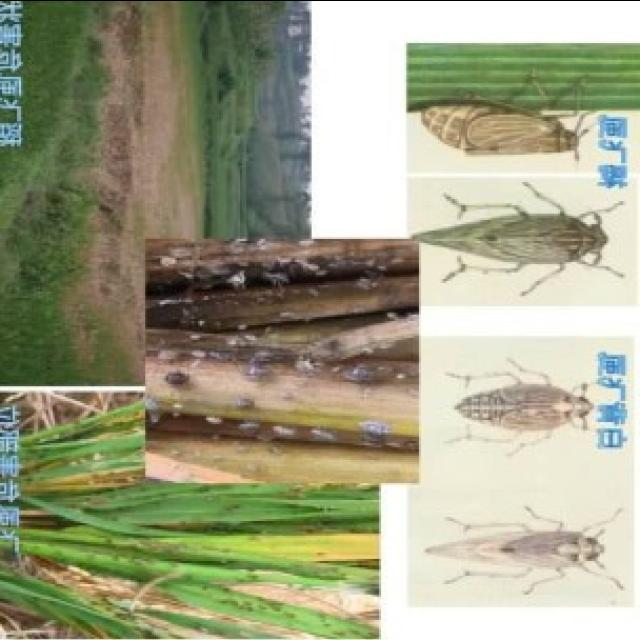brown plant hopper: (427, 496, 604, 599), (415, 204, 623, 276), (421, 103, 579, 154), (457, 383, 594, 432)
